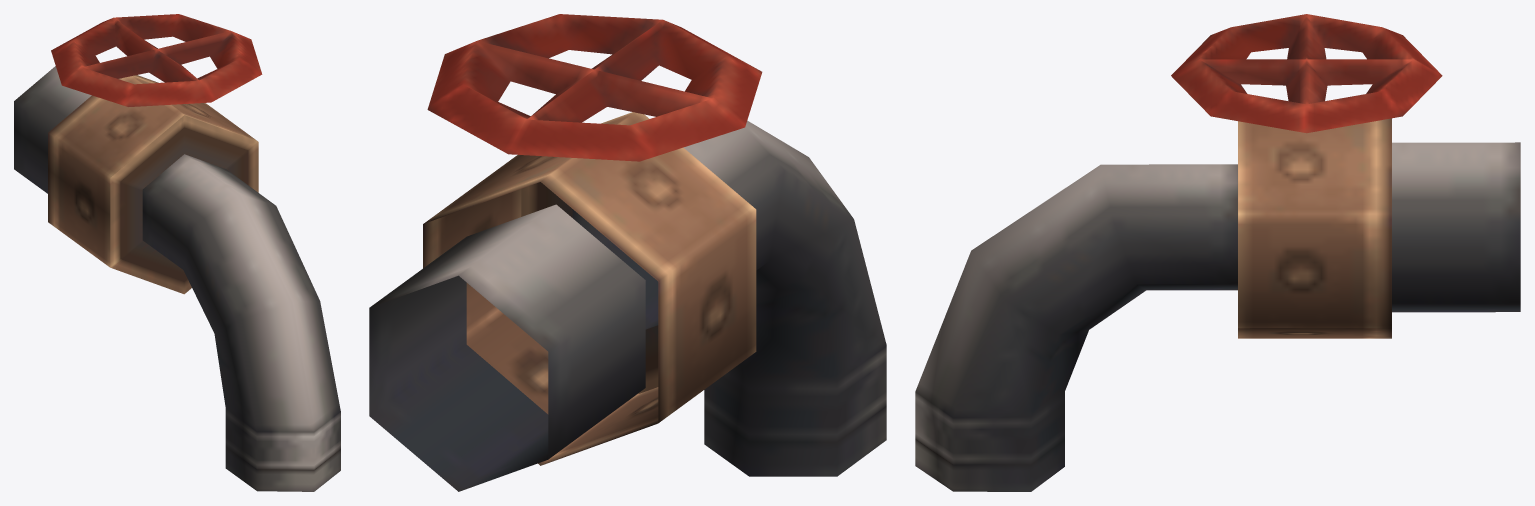
Rendered from cs_zhucheng_shuiguan_001.FBX.
3 views of the same model, side by side, from view 1: azimuth 30°, elevation 25°; view 2: azimuth 150°, elevation 25°; view 3: azimuth 270°, elevation 25° (orthographic). The views are drawn at different scales.
Visible parts, largest first — view 1: cs_zhucheng_shuiguan_001; view 2: cs_zhucheng_shuiguan_001; view 3: cs_zhucheng_shuiguan_001.
Boxes of the visible parts, x1,y1,x2,y2 form: cs_zhucheng_shuiguan_001: [14, 14, 340, 491]; cs_zhucheng_shuiguan_001: [369, 14, 886, 491]; cs_zhucheng_shuiguan_001: [915, 14, 1520, 491].
Bounding box in the file's own units: 32.98 × 73.39 × 54.55.
